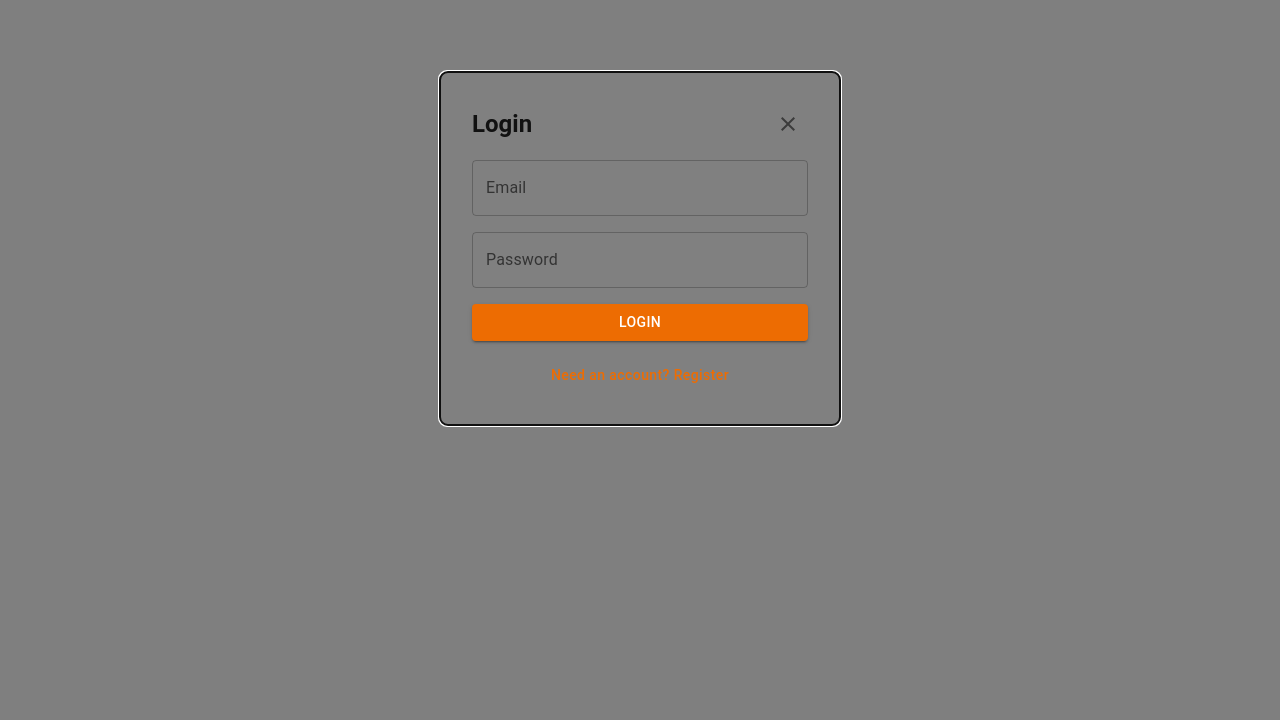
Test: AuthModal › toggles to register mode and shows name field
Click the button "Need an account? Register".
click(640, 375)  # box [472, 356, 808, 393]
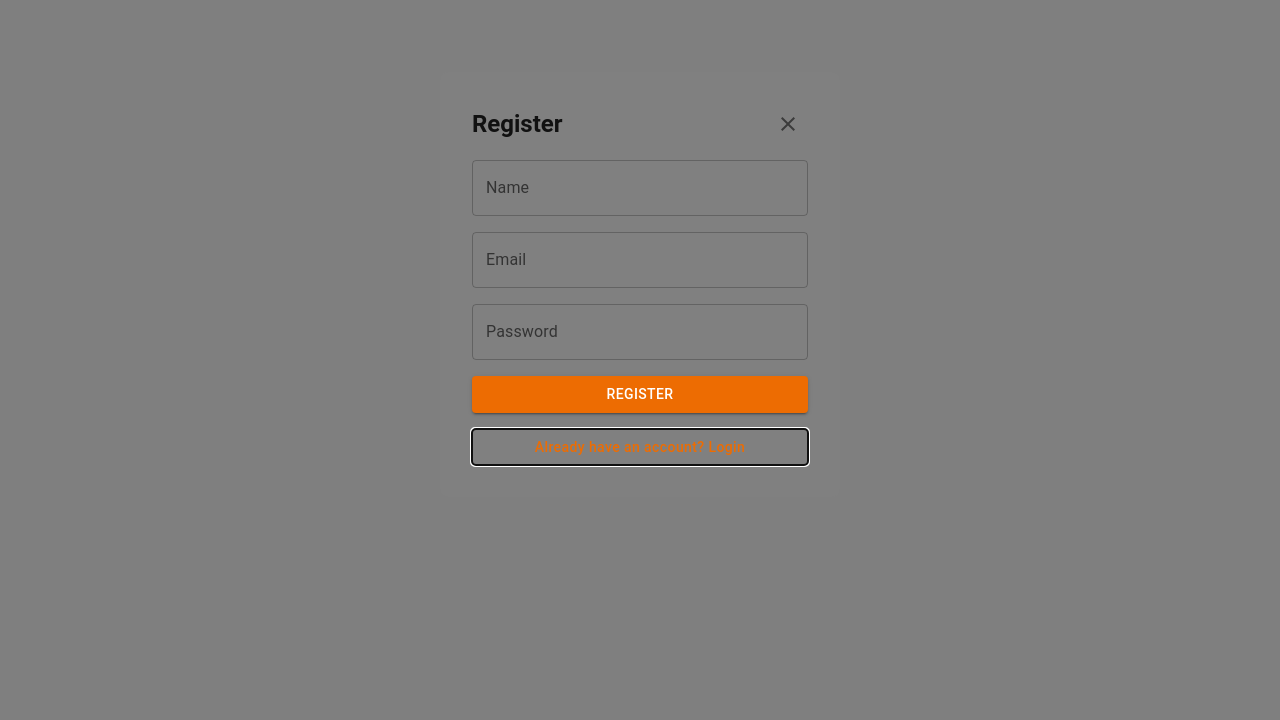
Check: the button "Register" is shown, box [472, 376, 808, 412]
Check: the field labelled "Name" is shown, box [472, 160, 808, 216]
Check: the heading "Register" is shown, box [472, 108, 563, 140]
